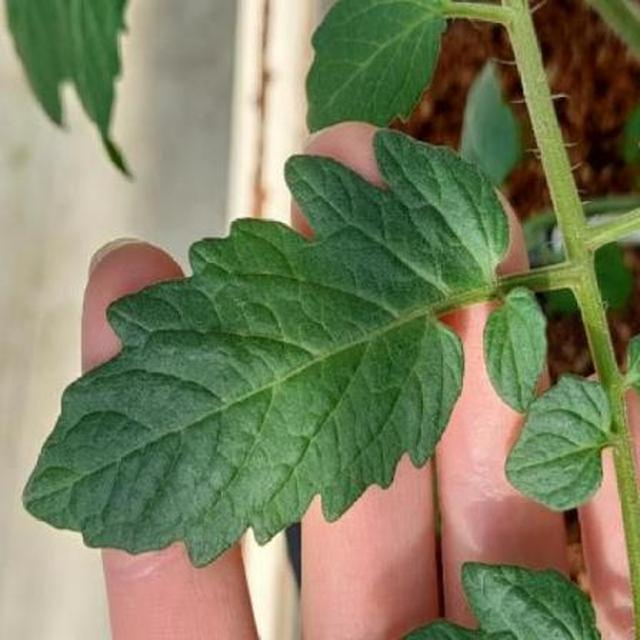Healthy Leaf: (92, 180, 640, 633)
